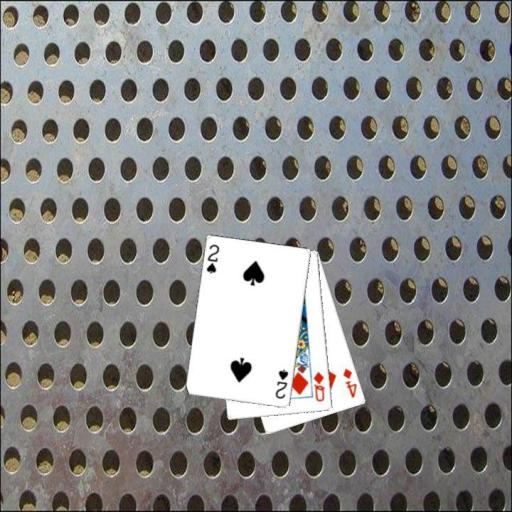2S: (204, 241, 222, 276), (272, 367, 290, 401)
4D: (340, 366, 358, 400)
QD: (310, 369, 326, 403)
